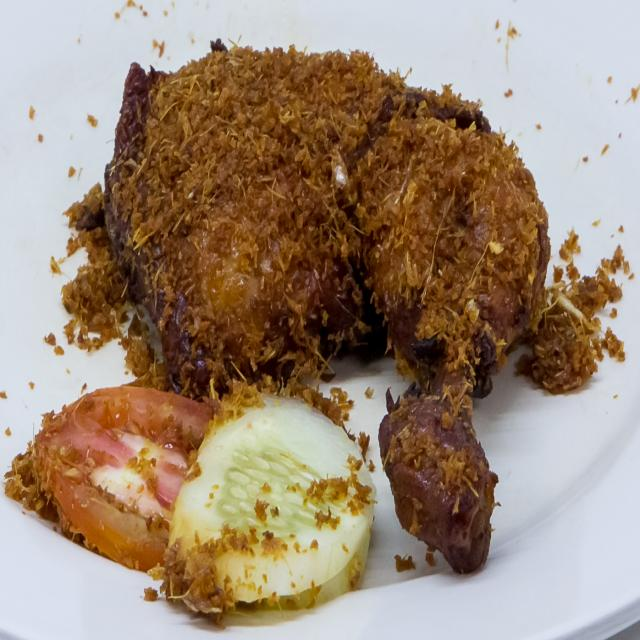Ayam-Goreng-Lengkuas: (97, 30, 557, 591)
